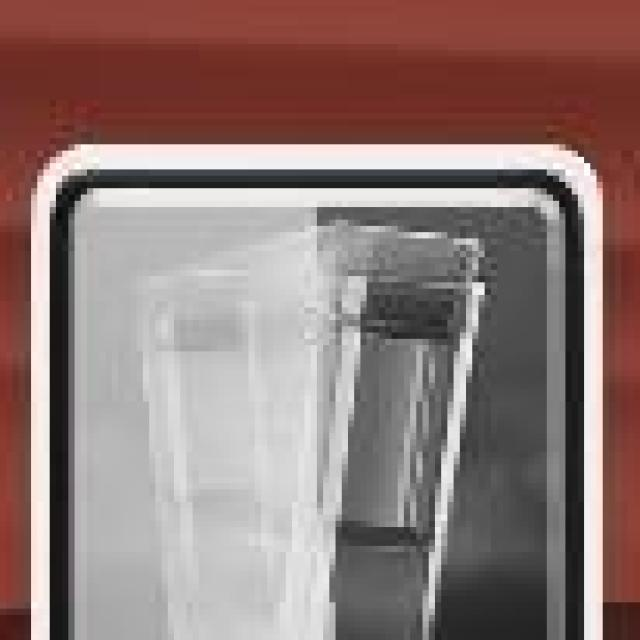Clone_Spell: (22, 134, 608, 640)
